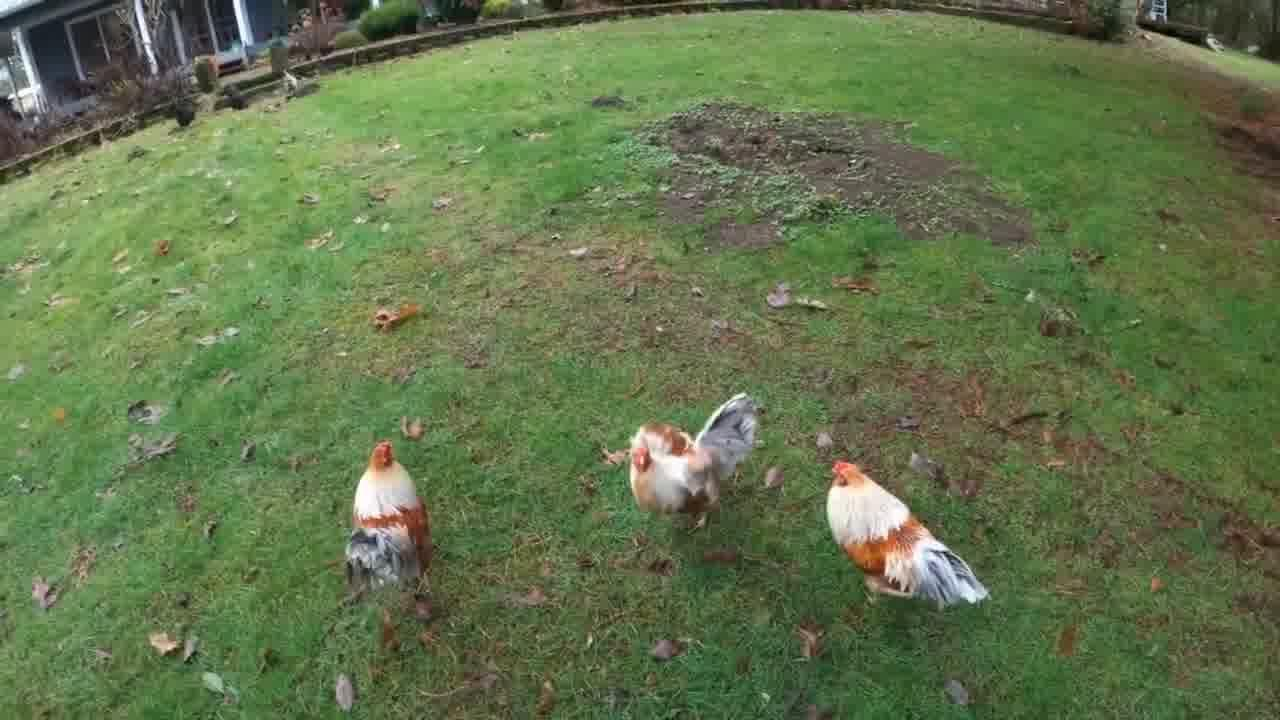Normal: (306, 436, 488, 626), (818, 452, 1004, 618), (618, 386, 774, 542)
